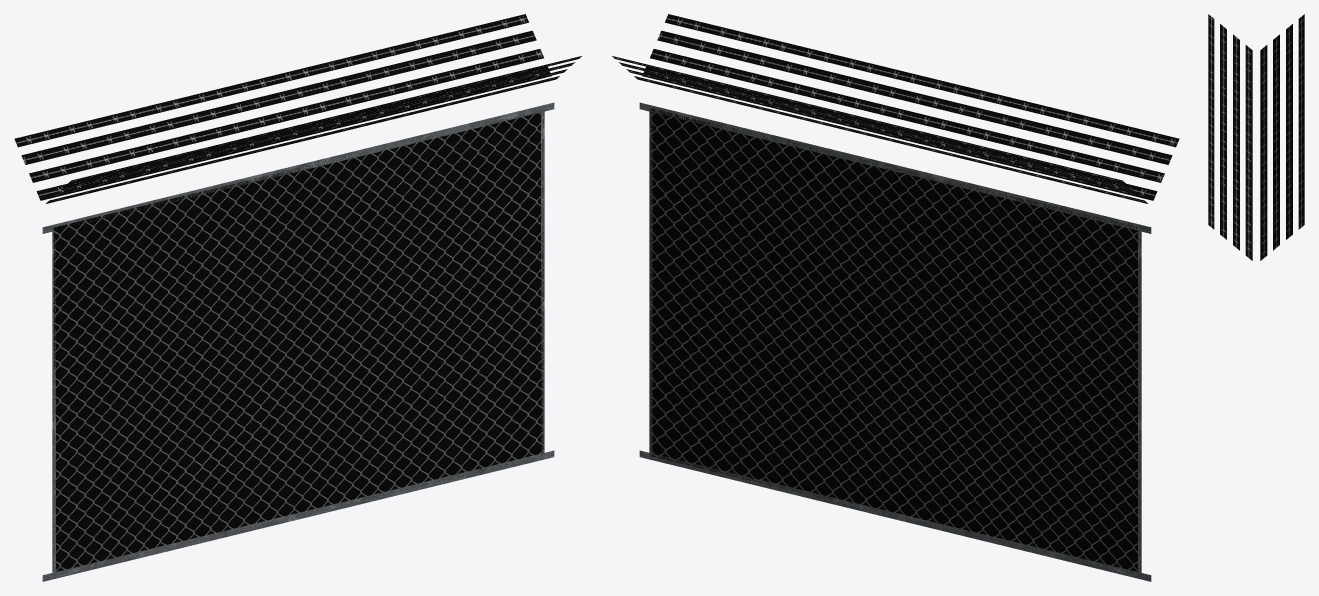
The model's file is Wire1_LOD1.fbx.
3 renders of one model, left to right at view 1: azimuth 30°, elevation 25°; view 2: azimuth 150°, elevation 25°; view 3: azimuth 270°, elevation 25°, orthographic. The views are drawn at different scales.
Parts seen in each view (by area): view 1: polySurface160; view 2: polySurface160; view 3: polySurface160.
Part boxes in pixels (x1,y1,x2,y2): polySurface160: (14, 14, 581, 581); polySurface160: (612, 14, 1179, 581); polySurface160: (1208, 14, 1304, 260).
Size of the model in its own units: 4 by 3.15 by 0.7716.
3 materials, 3 textured.
